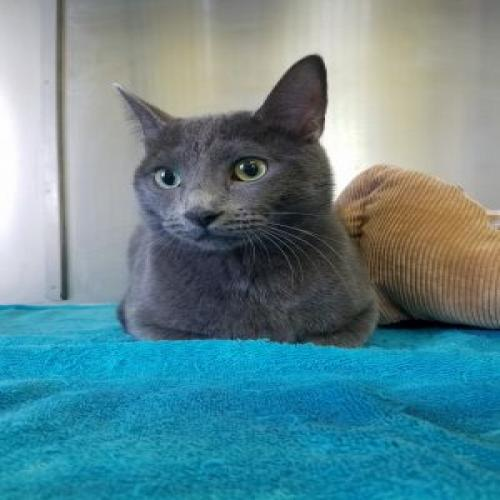rblue: (113, 46, 353, 264)
